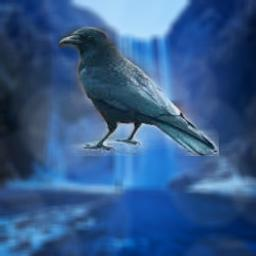Crow: (59, 26, 219, 156)
